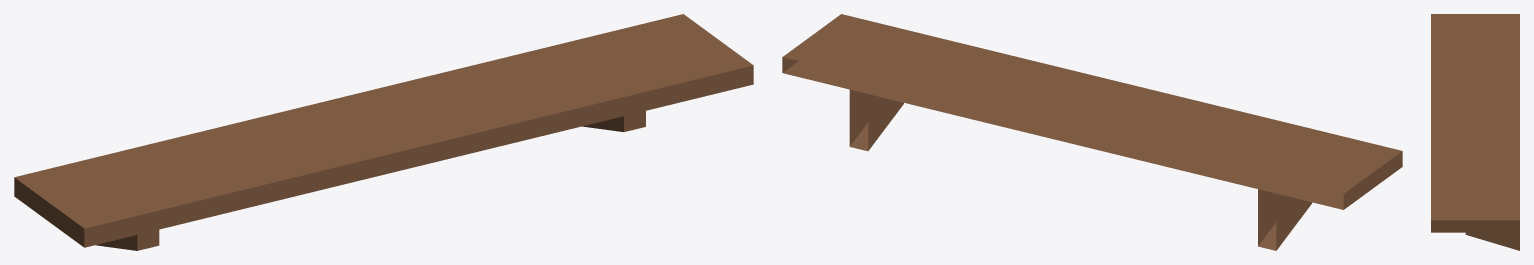
Rendered from Shelves_1B.fbx.
The picture shows the model from 3 angles, left to right: view 1: azimuth 30°, elevation 25°; view 2: azimuth 150°, elevation 25°; view 3: azimuth 270°, elevation 25°; orthographic projection. The views are drawn at different scales.
Parts seen in each view (by area): view 1: polySurface1679; view 2: polySurface1679; view 3: polySurface1679.
Part boxes in pixels (<box>): polySurface1679: <box>14,14,753,250</box>; polySurface1679: <box>782,14,1402,250</box>; polySurface1679: <box>1431,14,1519,250</box>.
Bounding box in the file's own units: 2.2 × 0.2748 × 0.4.
Materials: 1 (1 with a texture image).
